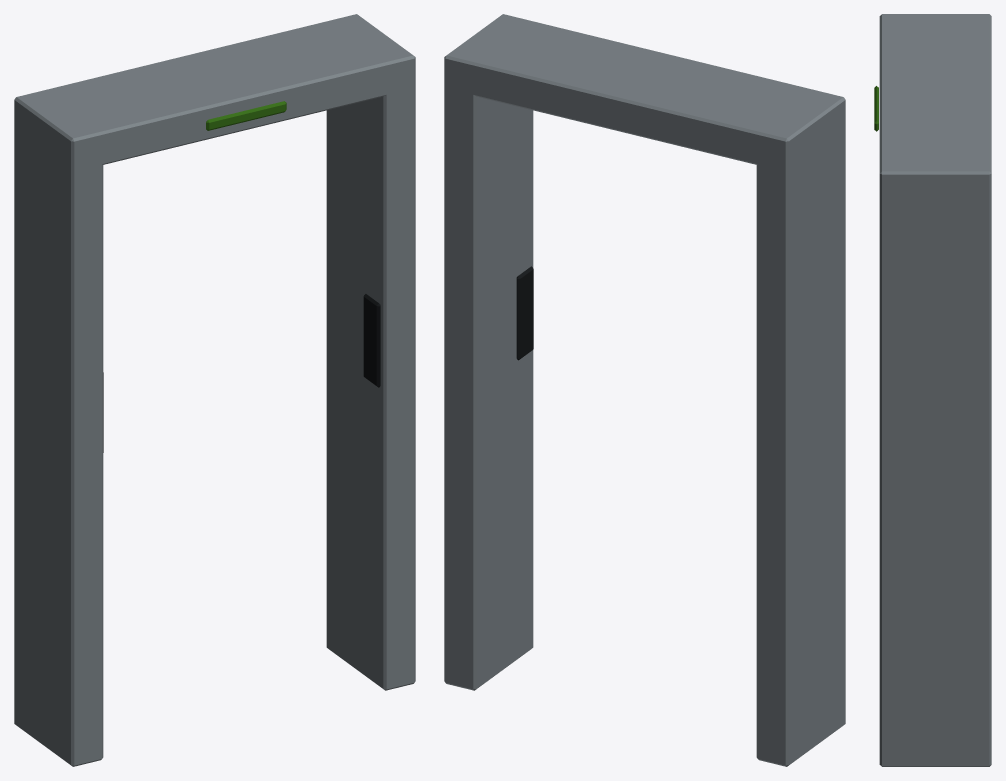
Rendered from AccessScannerArch.fbx.
The picture shows the model from 3 angles, left to right: view 1: azimuth 30°, elevation 25°; view 2: azimuth 150°, elevation 25°; view 3: azimuth 270°, elevation 25°; orthographic projection. The views are drawn at different scales.
Parts seen in each view (by area): view 1: AccessScannerArch; view 2: AccessScannerArch; view 3: AccessScannerArch.
Part boxes in pixels (x1=…): AccessScannerArch: x1=14, y1=14, x2=415, y2=766; AccessScannerArch: x1=444, y1=14, x2=845, y2=766; AccessScannerArch: x1=874, y1=14, x2=991, y2=766.
Bounding box in the file's own units: 128 × 223 × 39.9.
Materials: 1 (1 with a texture image).
